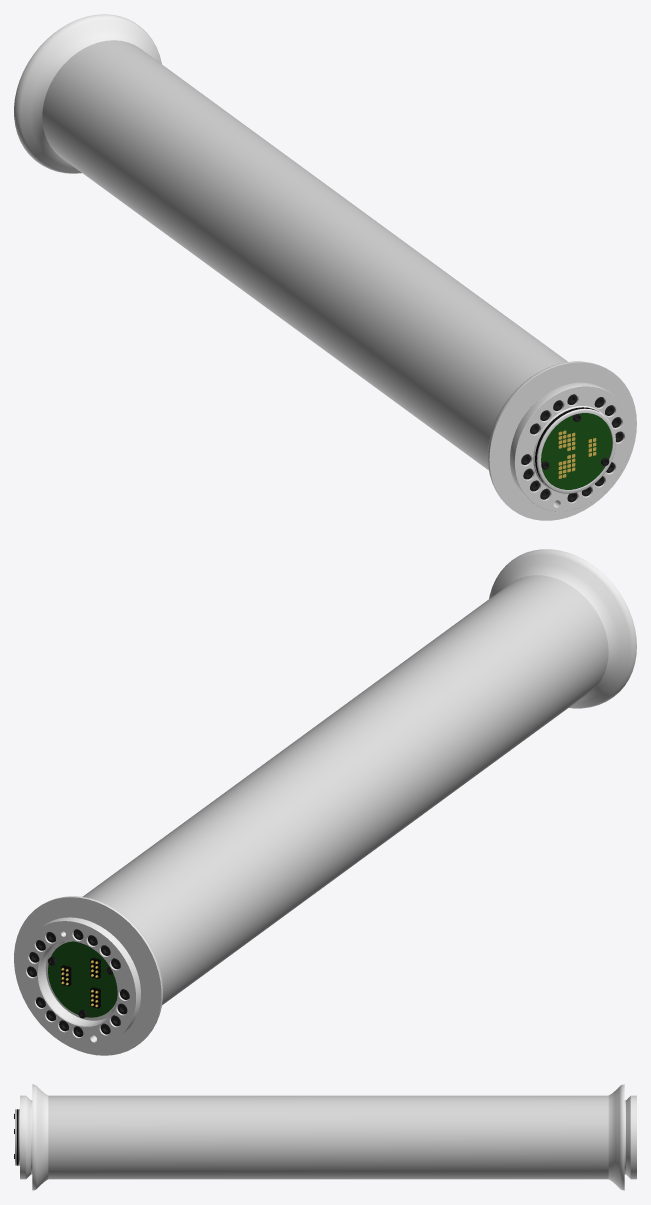
3 renders of one model, top to bottom at view 1: azimuth 30°, elevation 25°; view 2: azimuth 150°, elevation 25°; view 3: azimuth 270°, elevation 25°, orthographic. The views are drawn at different scales.
Visible parts, largest first — view 1: I86.001; view 2: I86.001; view 3: I86.001.
Boxes of the visible parts, left/top/right/bottom form: I86.001: left=14, top=14, right=636, bottom=520; I86.001: left=14, top=549, right=636, bottom=1055; I86.001: left=14, top=1084, right=636, bottom=1190.
Bounding box in the file's own units: 0.086 × 0.086 × 0.5048.
